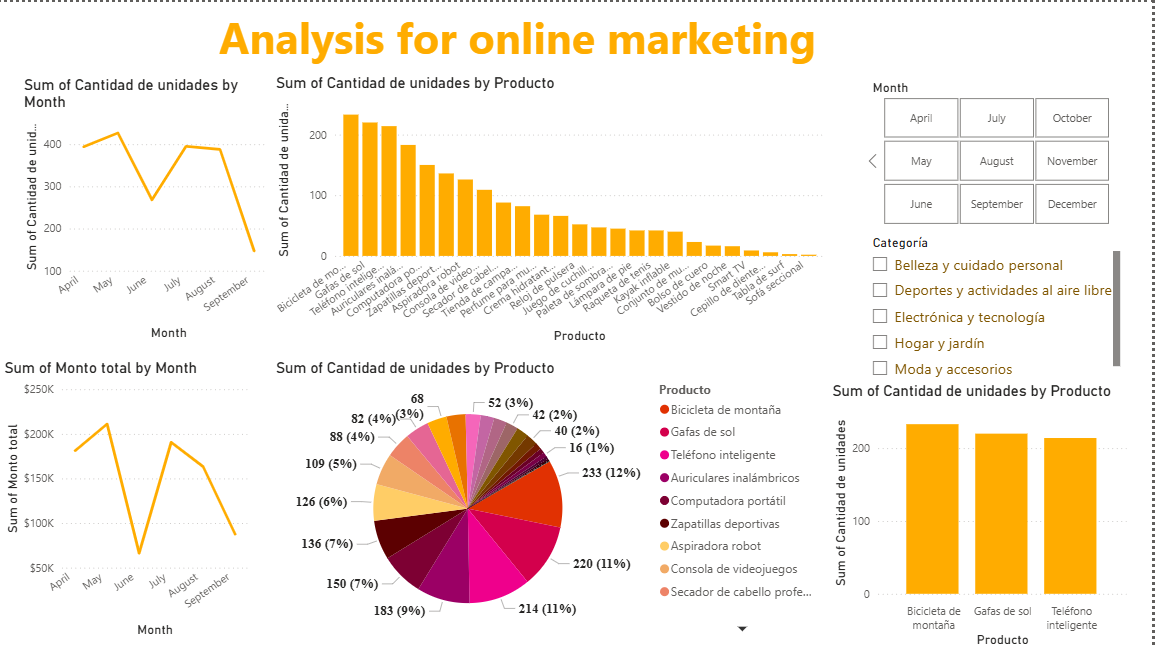

Layout of this report page (visuals, bound fields, positions):
{"tool":"powerbi","page":{"name":"Page 1","canvas":[1280,720],"ordinal":0},"visuals":[{"type":"lineChart","fields":{"Category":["Venta+de+Productos+en+Línea.Fecha.Variation.Date Hierarchy.Year","Venta+de+Productos+en+Línea.Fecha.Variation.Date Hierarchy.Quarter","Venta+de+Productos+en+Línea.Fecha.Variation.Date Hierarchy.Month","Venta+de+Productos+en+Línea.Fecha.Variation.Date Hierarchy.Day"],"Y":["Sum(Venta+de+Productos+en+Línea.Cantidad de unidades)"]},"box":[20.8,81.5,280.5,297.6],"z":0},{"type":"lineChart","fields":{"Category":["Venta+de+Productos+en+Línea.Fecha.Variation.Date Hierarchy.Year","Venta+de+Productos+en+Línea.Fecha.Variation.Date Hierarchy.Quarter","Venta+de+Productos+en+Línea.Fecha.Variation.Date Hierarchy.Month","Venta+de+Productos+en+Línea.Fecha.Variation.Date Hierarchy.Day"],"Y":["Sum(Venta+de+Productos+en+Línea.Monto total)"]},"box":[0,396.7,280.1,312.5],"z":1000},{"type":"lineStackedColumnComboChart","fields":{"Category":["Venta+de+Productos+en+Línea.Producto"],"Y":["Sum(Venta+de+Productos+en+Línea.Cantidad de unidades)"]},"box":[919.7,421,336.8,299.6],"z":2000},{"type":"columnChart","fields":{"Category":["Venta+de+Productos+en+Línea.Producto"],"Y":["Sum(Venta+de+Productos+en+Línea.Cantidad de unidades)"]},"box":[301.2,79.3,618.5,302.8],"z":3000},{"type":"pieChart","fields":{"Category":["Venta+de+Productos+en+Línea.Producto"],"Y":["Sum(Venta+de+Productos+en+Línea.Cantidad de unidades)"]},"box":[301.2,396.7,618.5,312.5],"z":4000},{"type":"slicer","fields":{"Values":["Venta+de+Productos+en+Línea.Fecha.Variation.Date Hierarchy.Month"]},"box":[957,81,299.6,171.6],"z":5000},{"type":"slicer","fields":{"Values":["Venta+de+Productos+en+Línea.Categoría"]},"box":[957,252.6,293.1,168.4],"z":7000},{"type":"textbox","box":[238.1,0,1018.6,79.4],"z":7001}]}

Visuals, with their boxes in screenshot pixels (x1, y1, x2, y2), scaled from the page's 1280x720 canvas onto the 1155x649 screenshot:
lineChart - Venta+de+Productos+en+Línea.Fecha.Variation.Date Hierarchy.Year x Venta+de+Productos+en+Línea.Fecha.Variation.Date Hierarchy.Quarter: (left=19, top=73, right=272, bottom=342)
lineChart - Venta+de+Productos+en+Línea.Fecha.Variation.Date Hierarchy.Year x Venta+de+Productos+en+Línea.Fecha.Variation.Date Hierarchy.Quarter: (left=0, top=358, right=253, bottom=639)
lineStackedColumnComboChart - Venta+de+Productos+en+Línea.Producto x Sum(Venta+de+Productos+en+Línea.Cantidad de unidades): (left=830, top=379, right=1134, bottom=648)
columnChart - Venta+de+Productos+en+Línea.Producto x Sum(Venta+de+Productos+en+Línea.Cantidad de unidades): (left=272, top=71, right=830, bottom=344)
pieChart - Venta+de+Productos+en+Línea.Producto x Sum(Venta+de+Productos+en+Línea.Cantidad de unidades): (left=272, top=358, right=830, bottom=639)
slicer - Venta+de+Productos+en+Línea.Fecha.Variation.Date Hierarchy.Month: (left=864, top=73, right=1134, bottom=228)
slicer - Venta+de+Productos+en+Línea.Categoría: (left=864, top=228, right=1128, bottom=379)
textbox: (left=215, top=0, right=1134, bottom=72)
